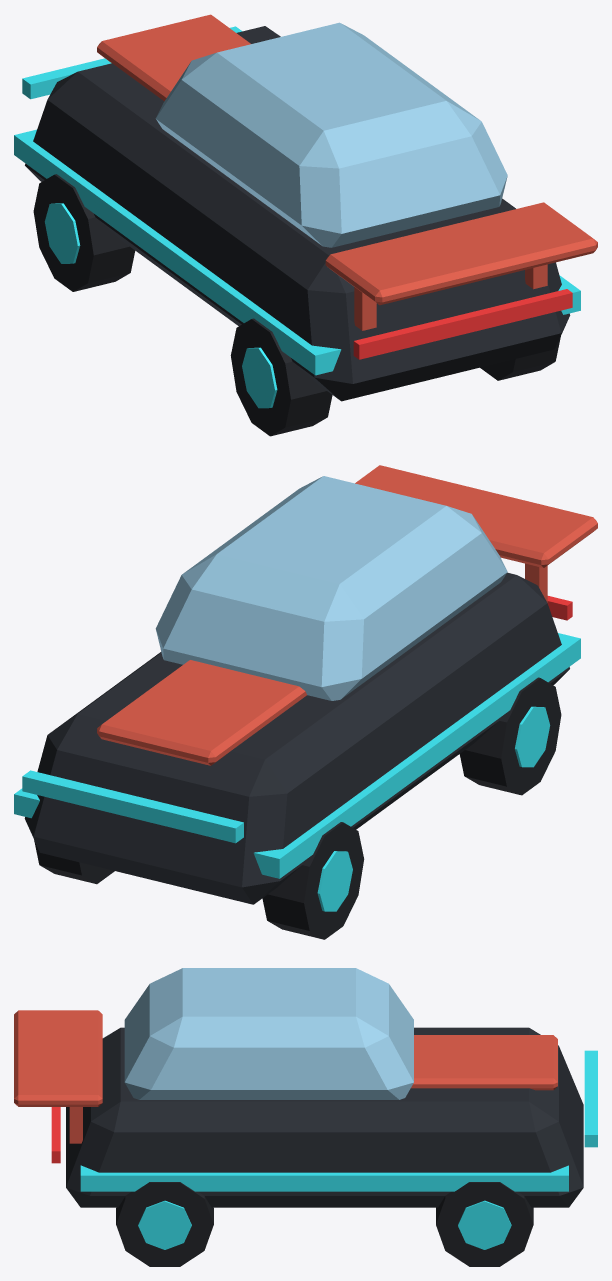
Rendered from hitech.glb.
3 views of the same model, one above another, from view 1: azimuth 30°, elevation 25°; view 2: azimuth 150°, elevation 25°; view 3: azimuth 270°, elevation 25° (orthographic). The views are drawn at different scales.
Visible parts, largest first — view 1: Body, Wheel_1L, Wheel_0L, Wheel_1R; view 2: Body, Wheel_1L, Wheel_0L, Wheel_0R; view 3: Body, Wheel_1R, Wheel_0R.
Part boxes in pixels (x1=…): Body: x1=14, y1=14, x2=597, y2=401; Wheel_1L: x1=230, y1=318, x2=332, y2=436; Wheel_0L: x1=33, y1=174, x2=135, y2=291; Wheel_1R: x1=480, y1=336, x2=560, y2=380; Body: x1=14, y1=465, x2=597, y2=904; Wheel_1L: x1=459, y1=677, x2=561, y2=795; Wheel_0L: x1=262, y1=822, x2=364, y2=939; Wheel_0R: x1=34, y1=840, x2=114, y2=884; Body: x1=14, y1=968, x2=597, y2=1207; Wheel_1R: x1=116, y1=1182, x2=213, y2=1266; Wheel_0R: x1=436, y1=1182, x2=533, y2=1266.
Bounding box in the file's own units: 1.16 × 1.1 × 2.63.
1 material, 1 textured.
